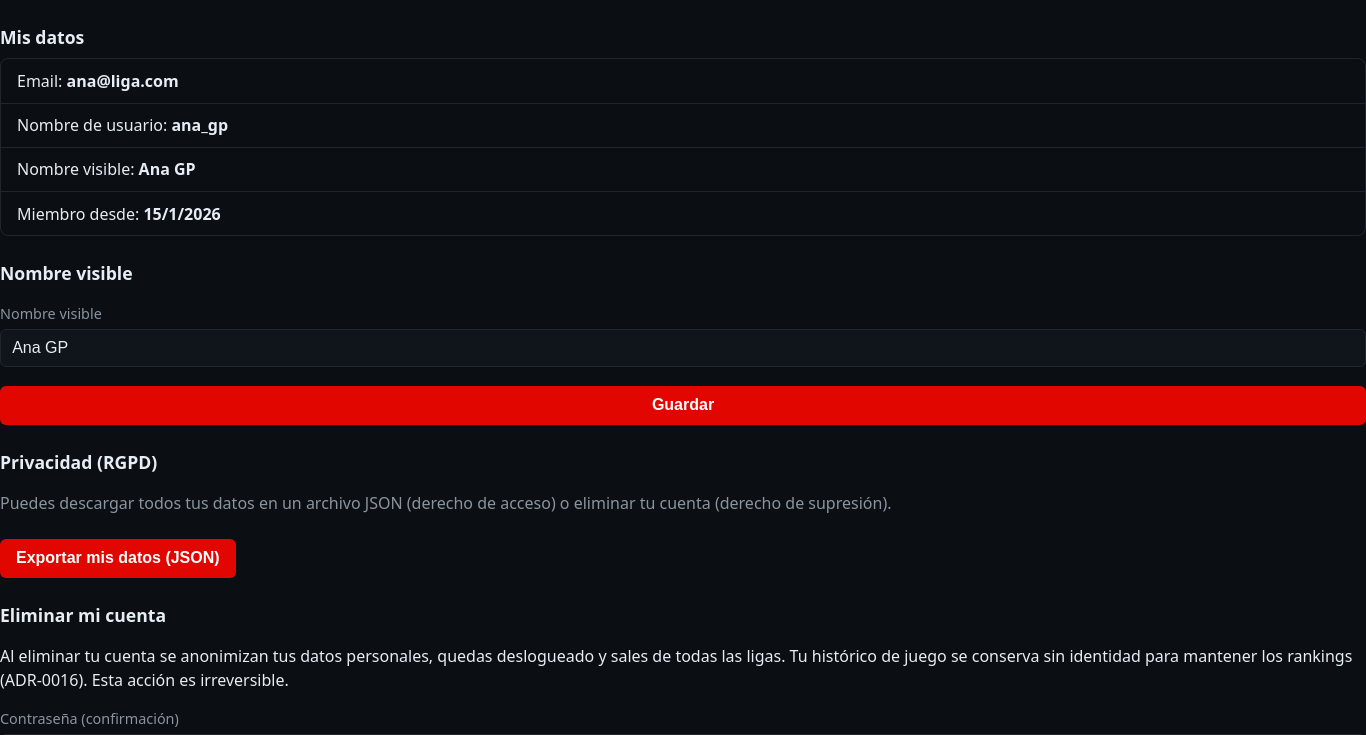
Scenario: PerfilPage › export: muestra un error si la exportación falla
Click the button "Exportar mis datos (JSON)".
click(118, 558)  # box [0,539,236,578]
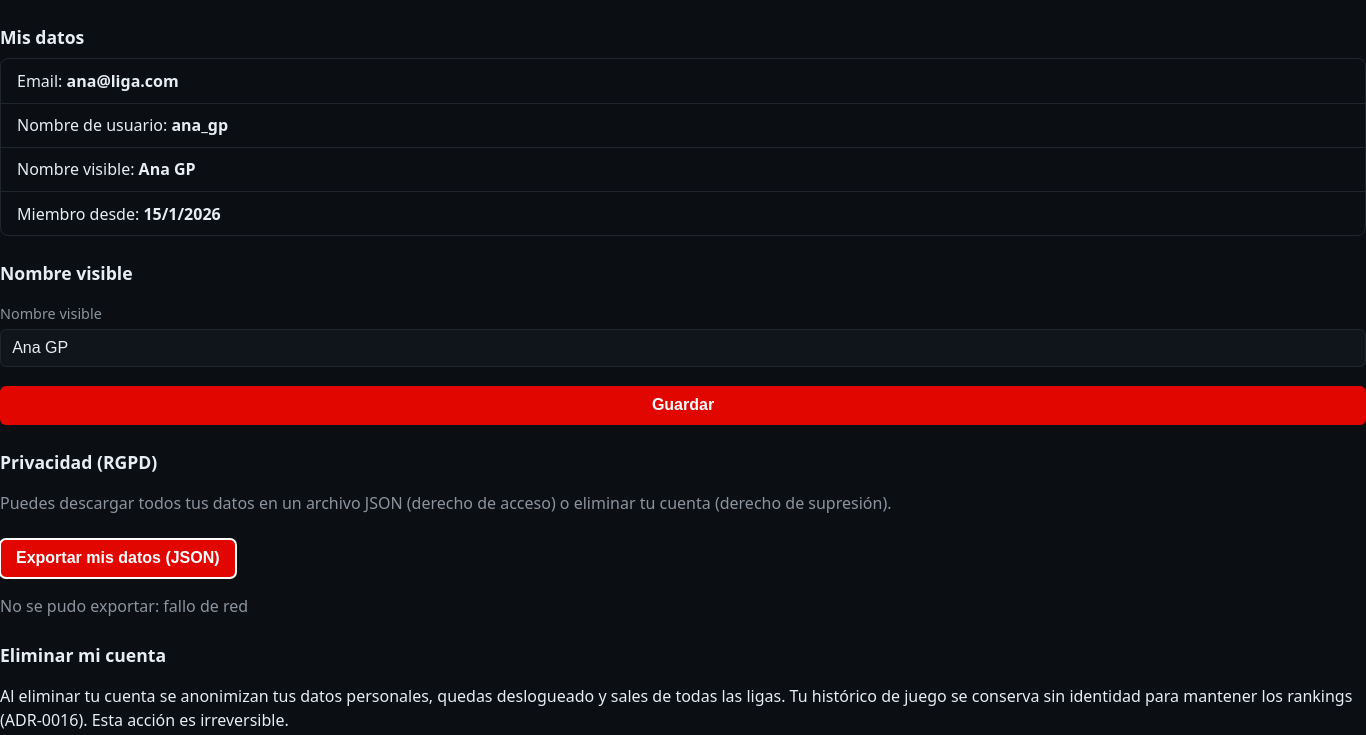
Result: the text "No se pudo exportar: fallo de red" is shown at [0,595,248,617]
